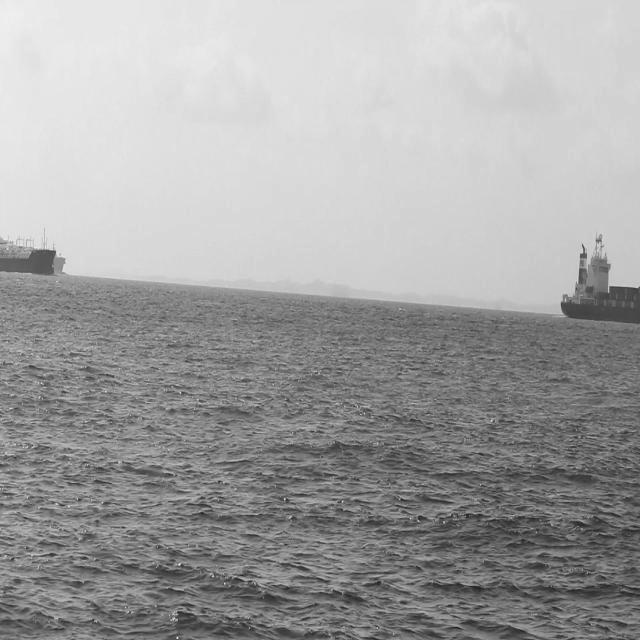ship: (559, 222, 639, 312), (1, 227, 56, 269), (55, 246, 69, 271)
